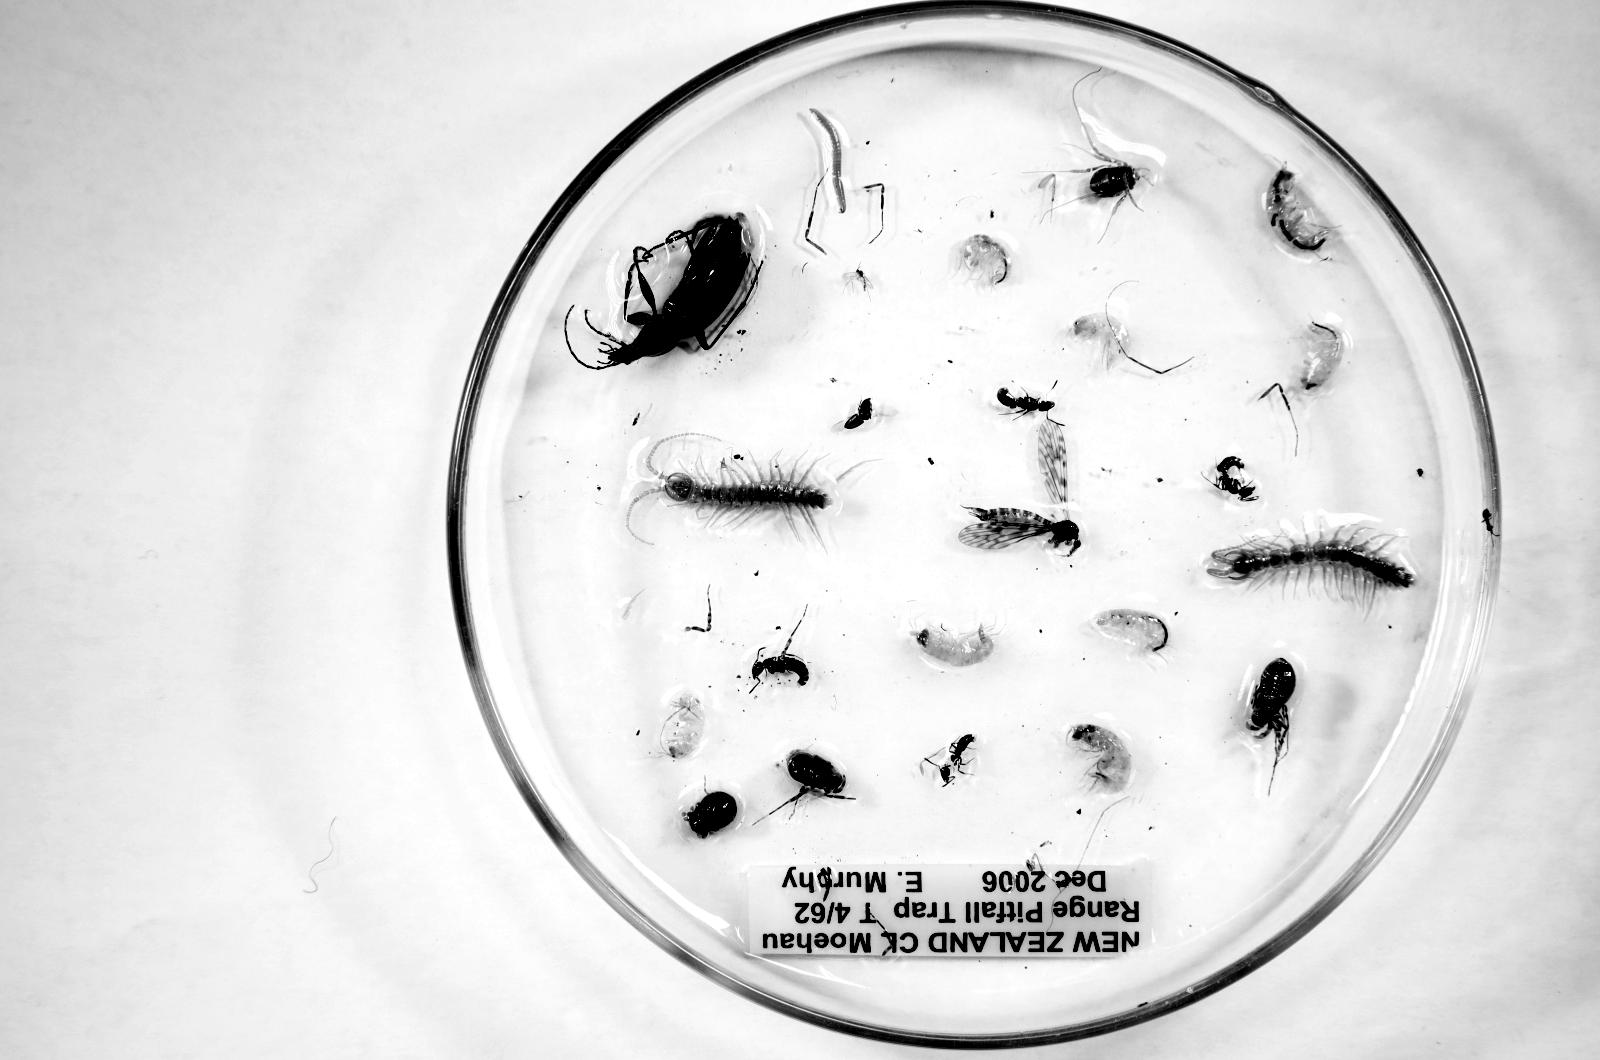amphipoda: (1267, 166, 1335, 251), (1068, 723, 1131, 795), (912, 625, 995, 667), (1070, 312, 1131, 369), (1298, 321, 1347, 390), (1092, 608, 1168, 652), (659, 692, 705, 758), (959, 233, 1012, 285)
carabidae: (578, 213, 759, 369)
chilopoda: (627, 433, 833, 545), (1207, 524, 1416, 618)
coleoptera: (857, 399, 873, 421)
diplopoda: (809, 109, 847, 213)
diptera: (959, 418, 1081, 555), (843, 269, 872, 290)
formicidae: (1212, 455, 1257, 502), (752, 651, 809, 685), (997, 388, 1054, 414)
opiliones: (1246, 658, 1296, 765), (1081, 154, 1149, 214), (785, 750, 853, 799), (684, 791, 738, 839)
